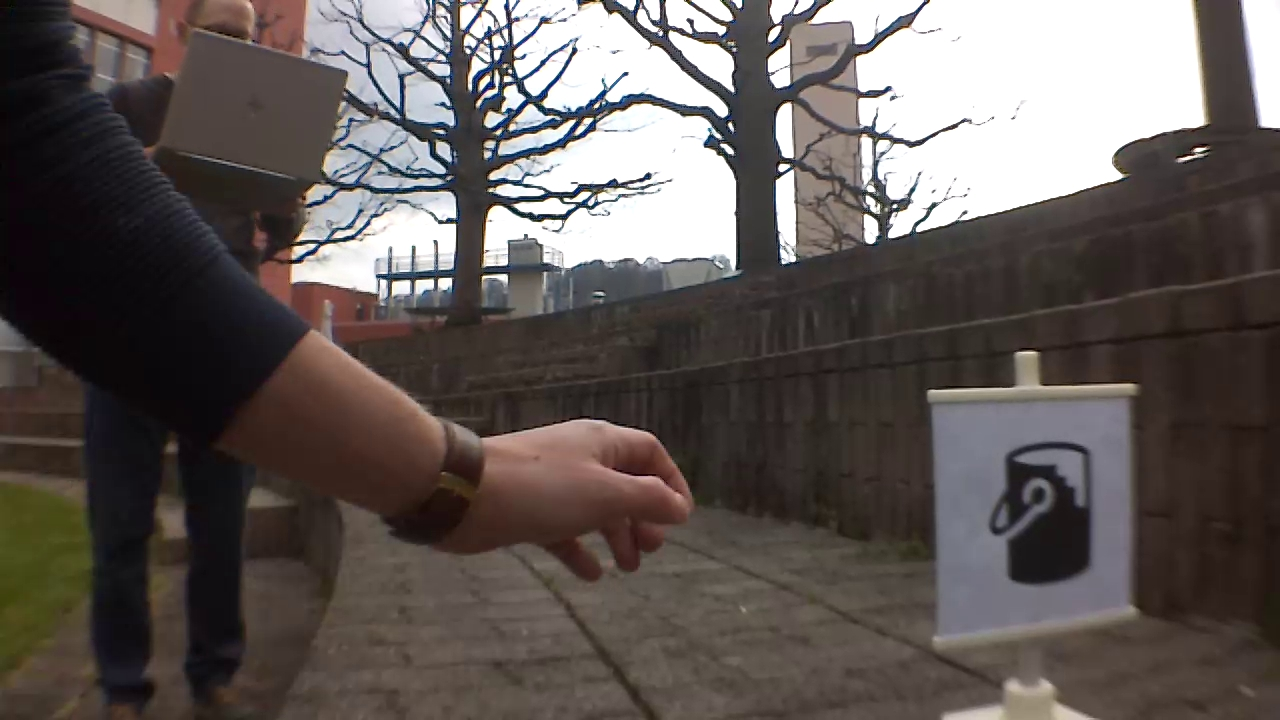bucket: (982, 436, 1095, 596)
